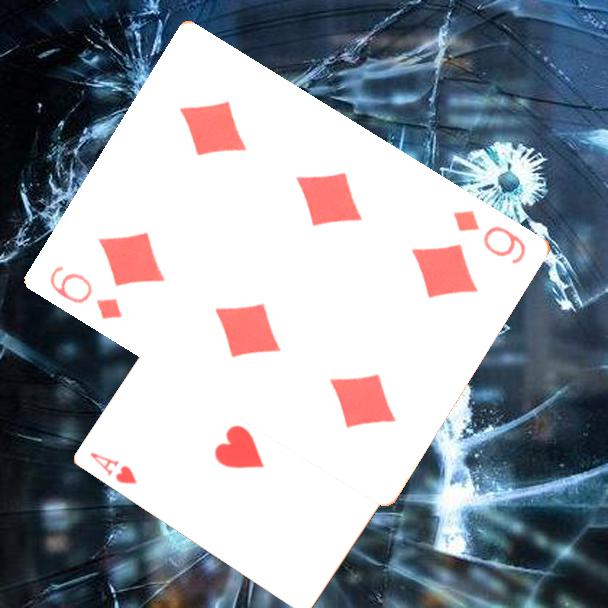d06: (450, 206, 530, 267), (46, 262, 126, 323)
h01: (87, 448, 140, 487)
